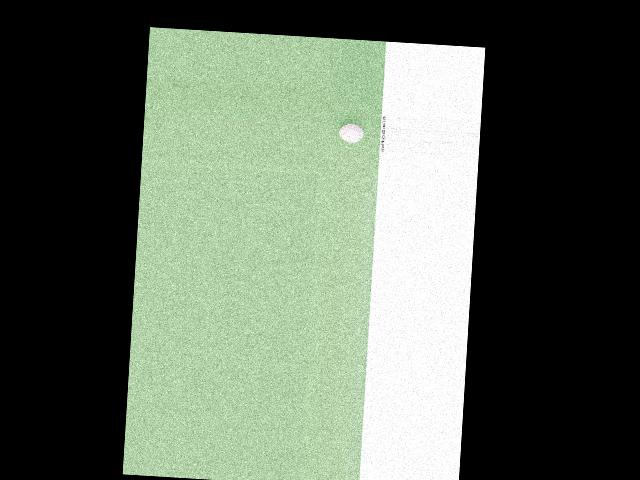egg: (338, 123, 364, 143)
